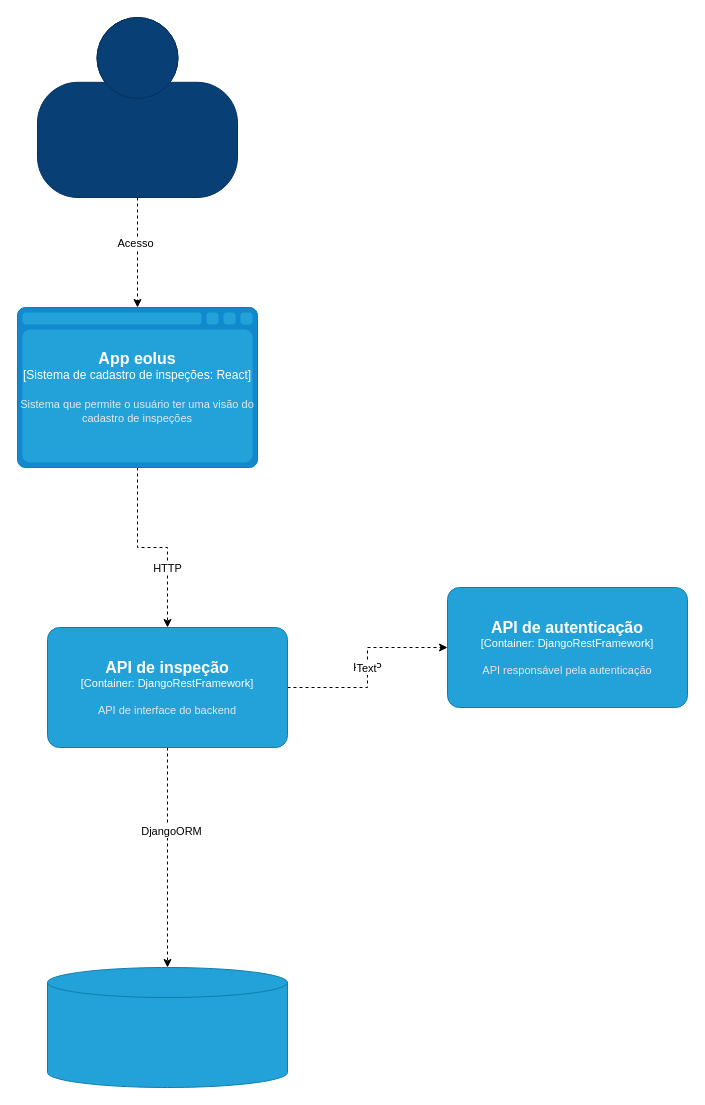
This 705x1105 diagram has some shape labels left out. Here are the shapes that lost their labels. From the top down, the box of each, then its label:
(36, 16, 238, 198): Tecnico [Usuário] Pessoa responsável por manter as inspeções
(46, 966, 288, 1088): DB [Base de Dados: Postgree] Base de dados responsável por manter as informações
